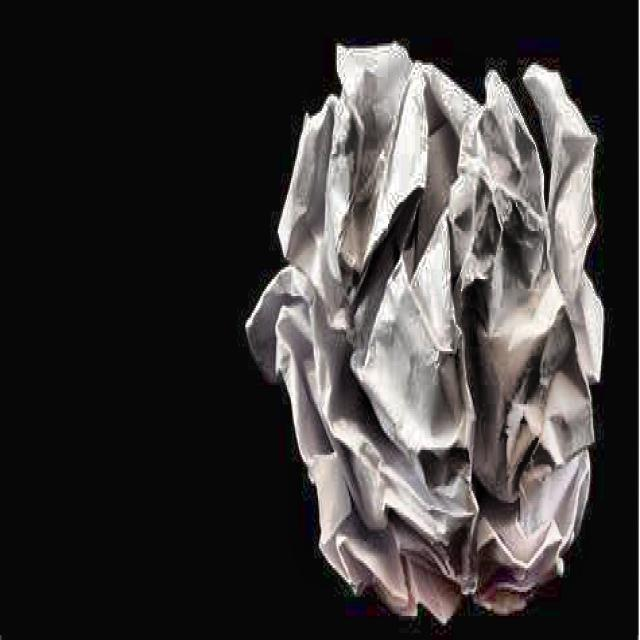Paper: (235, 38, 610, 620)
